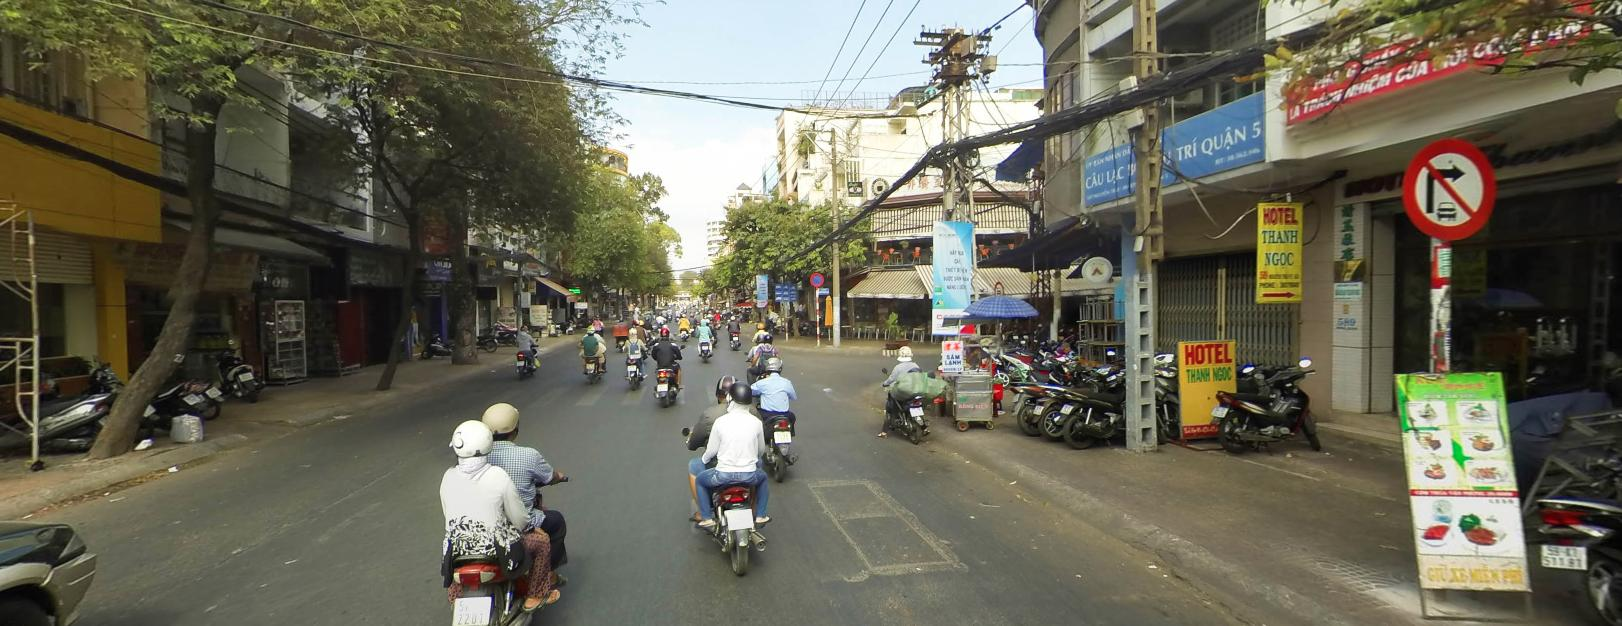Cam dung va do: (808, 270, 824, 285), (809, 270, 823, 285)
Cam re: (1396, 133, 1499, 242), (1400, 135, 1493, 236)
